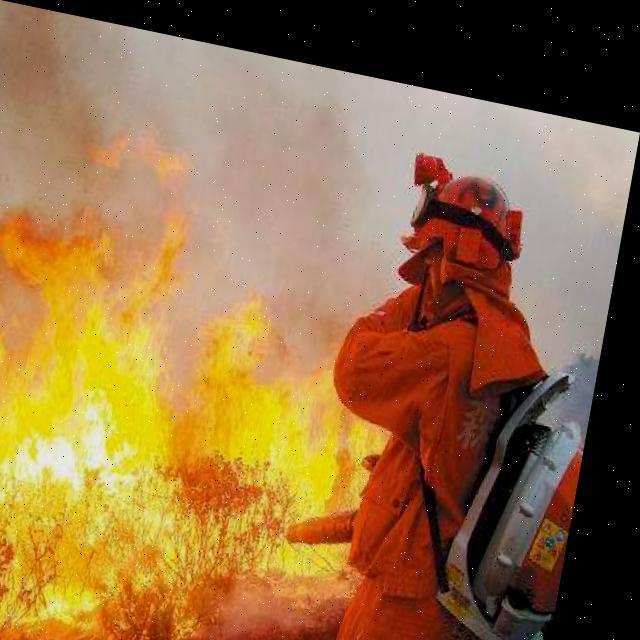Fire: (0, 207, 411, 639)
